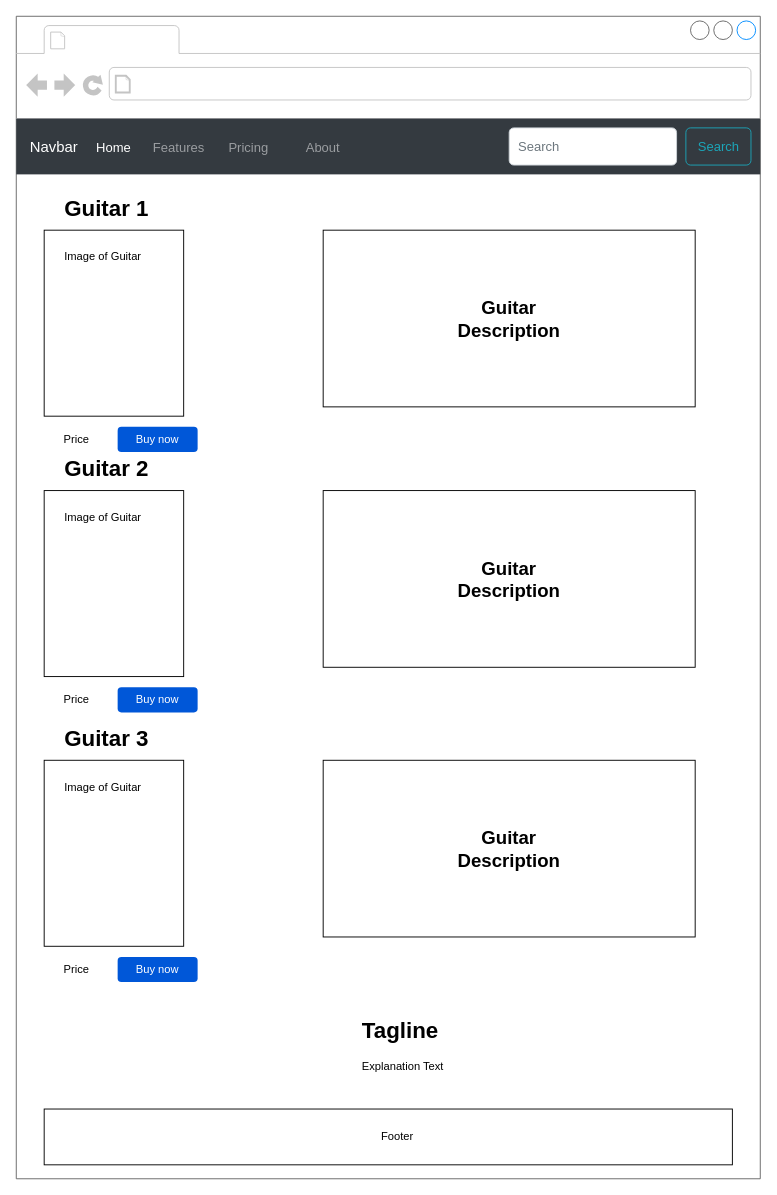
Some shapes in this 777 by 1195 pixel diagram are drawn without their labels. Each missing label, with the centre of its shape:
"https://www.draw.io" belongs at (253,83).
"Page 1" belongs at (122,39).
